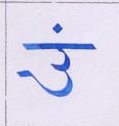anusvara: (54, 25, 61, 32)
